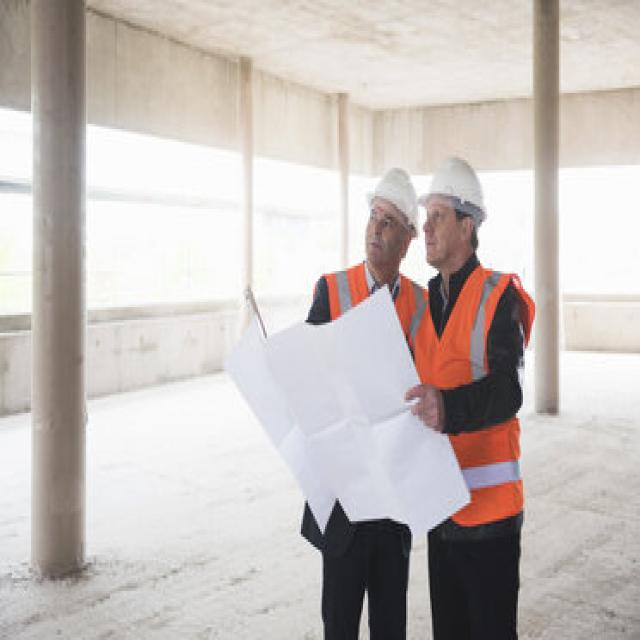helmet: (421, 154, 489, 226), (368, 160, 419, 241)
no-goggles: (424, 205, 449, 233), (367, 210, 397, 232)
vest: (412, 263, 534, 522), (324, 263, 416, 341)
